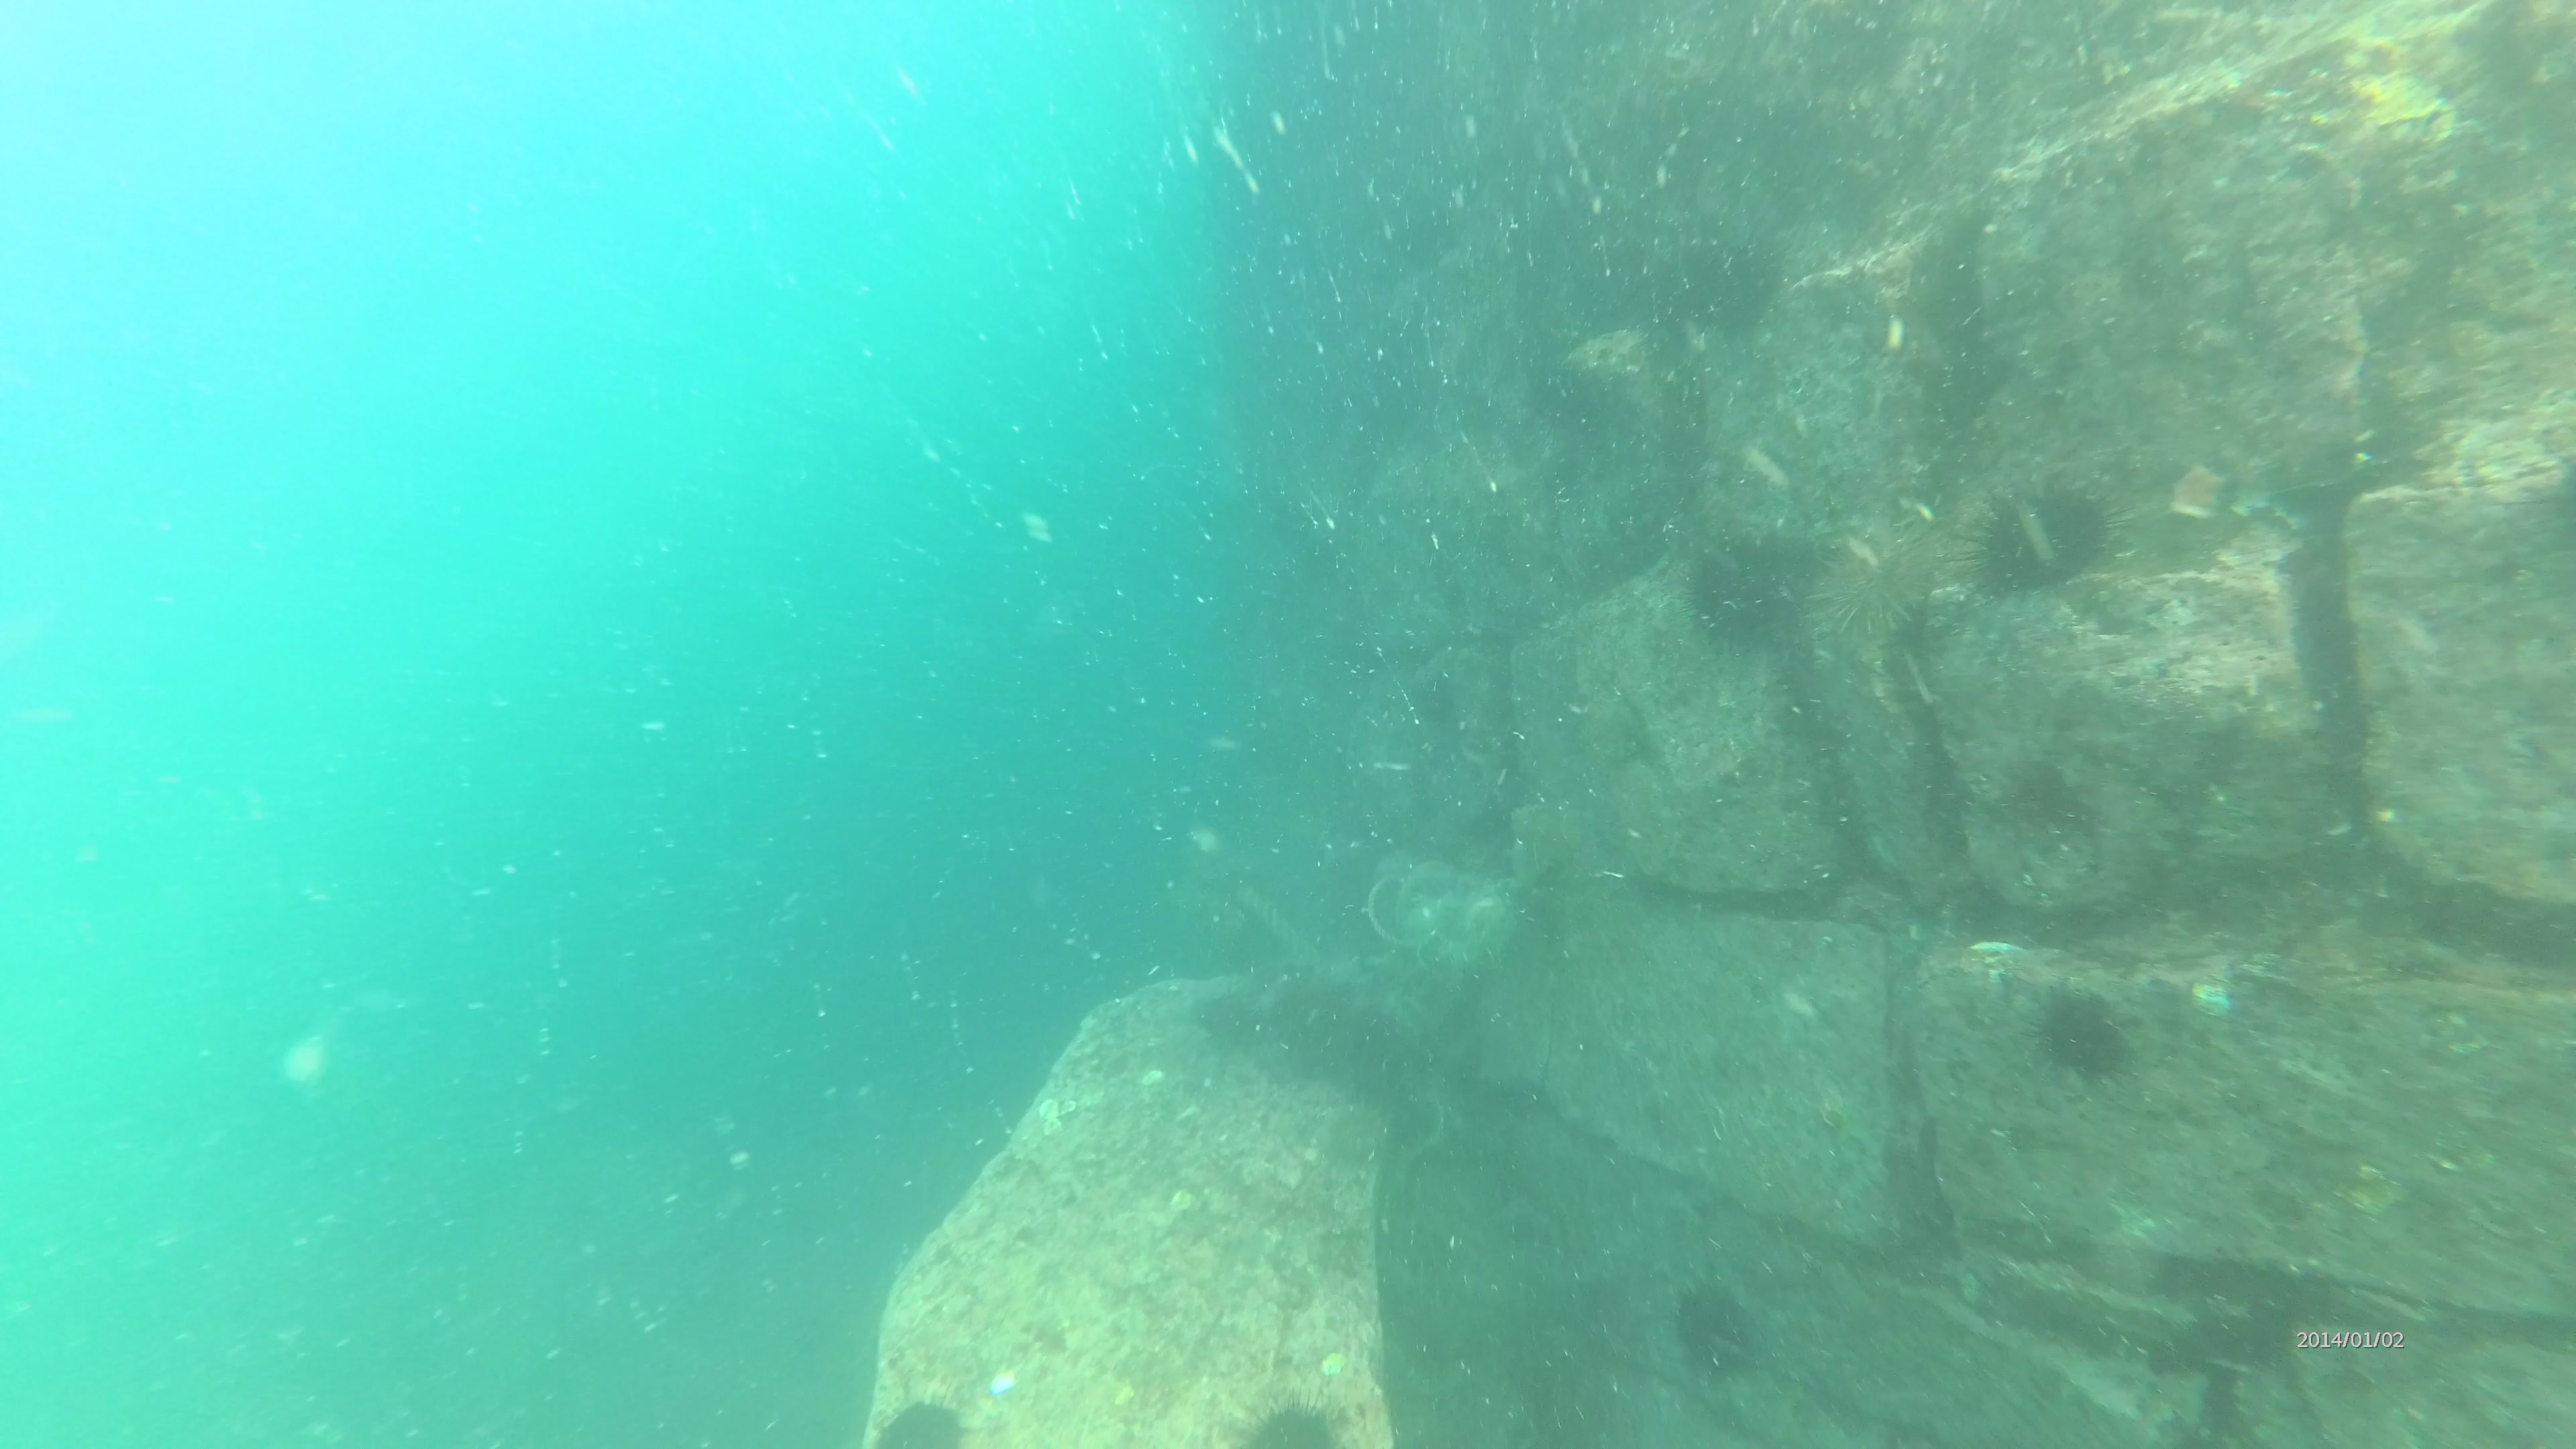echinus: (1973, 741, 2104, 879), (1815, 527, 1913, 653), (1985, 476, 2093, 582), (2026, 996, 2134, 1092), (1665, 1272, 1757, 1376), (1684, 559, 1775, 658), (1233, 1387, 1341, 1449), (872, 1396, 971, 1447)
